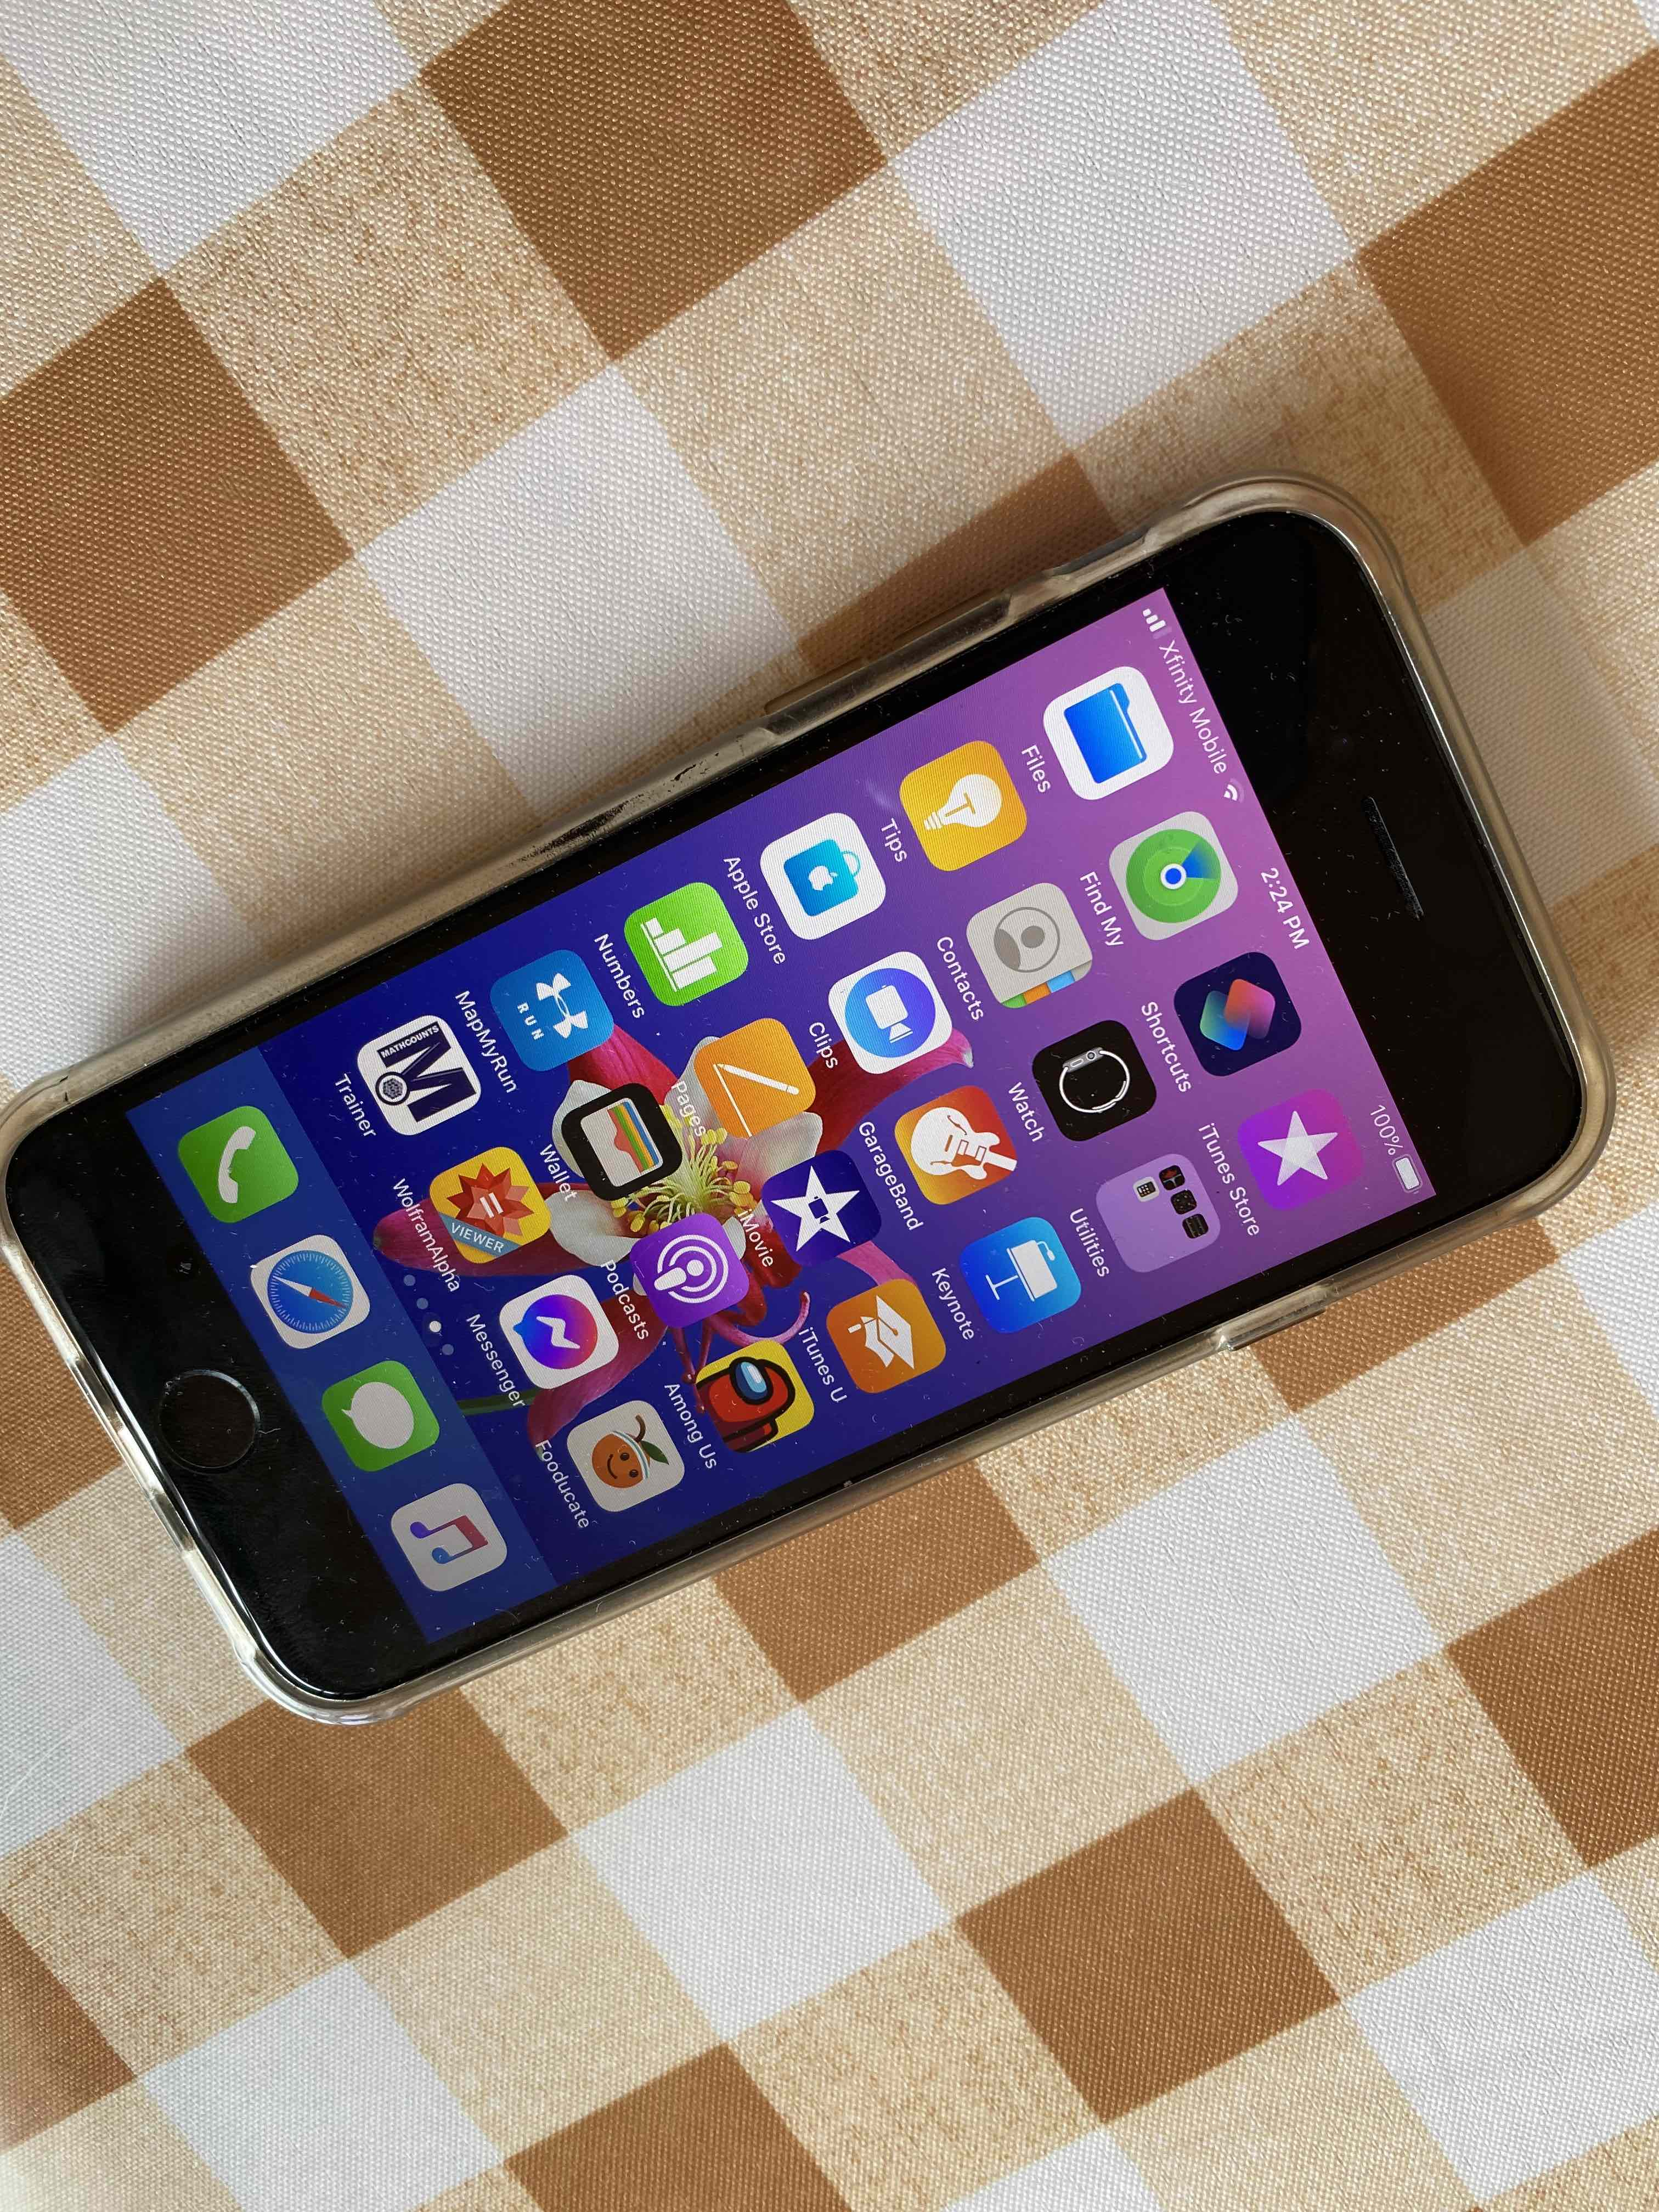Cell Phone: (0, 488, 1622, 1716)
